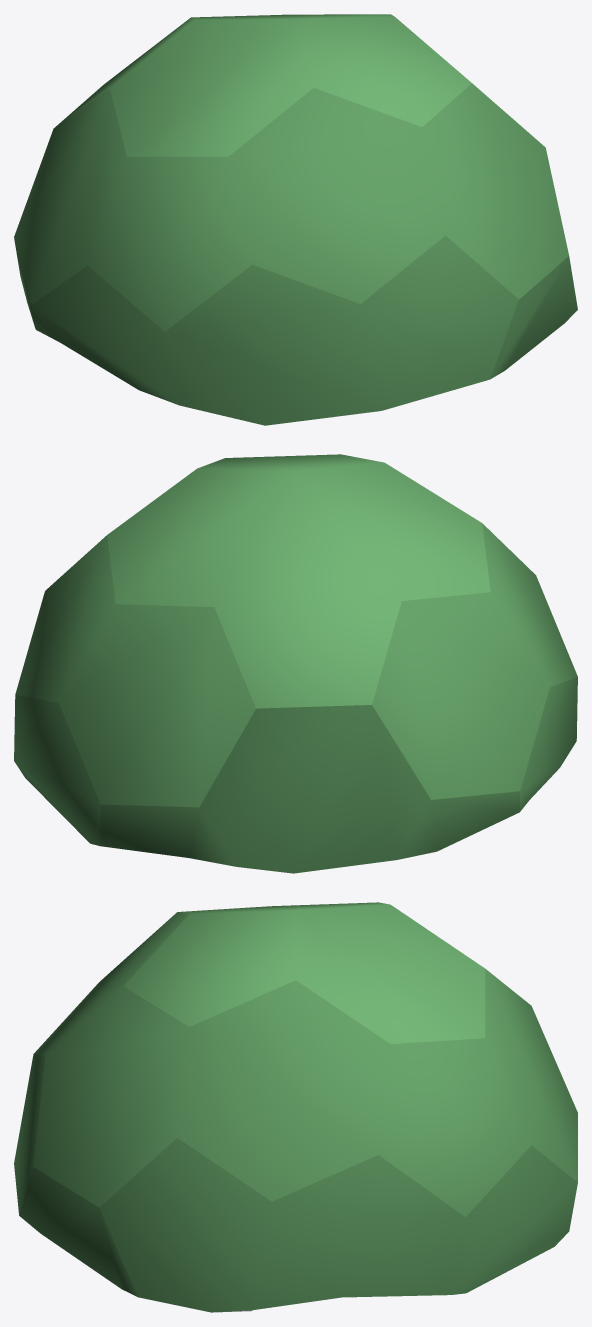
Rendered from plainbush.fbx.
3 renders of one model, top to bottom at view 1: azimuth 30°, elevation 25°; view 2: azimuth 150°, elevation 25°; view 3: azimuth 270°, elevation 25°, orthographic.
Visible parts, largest first — view 1: pSolid1; view 2: pSolid1; view 3: pSolid1.
Part boxes in pixels (x1=…): pSolid1: x1=14, y1=14, x2=577, y2=425; pSolid1: x1=14, y1=454, x2=577, y2=873; pSolid1: x1=14, y1=902, x2=577, y2=1312.
Size of the model in its own units: 1.97 by 1.14 by 1.95.
